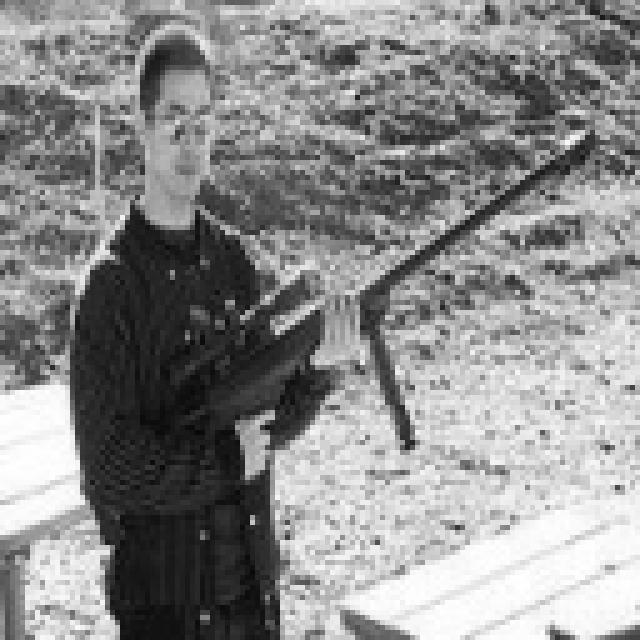Rifle: (31, 107, 640, 461)
